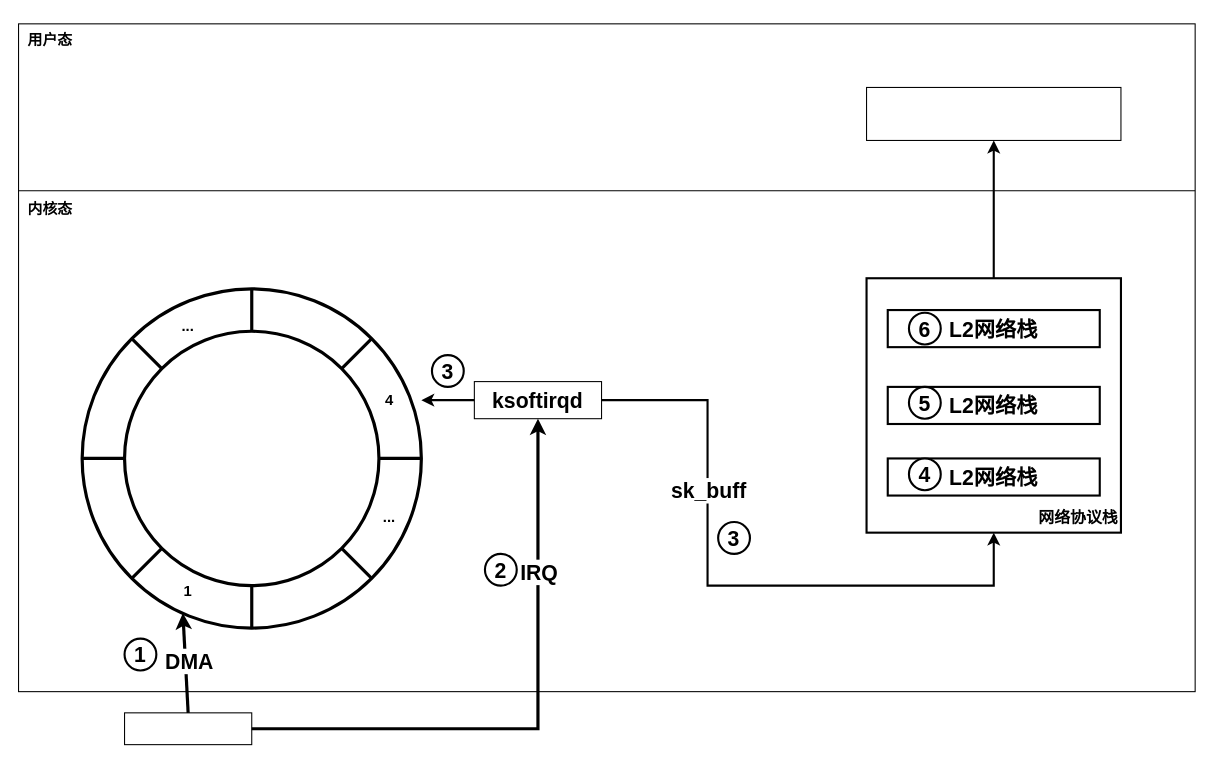
The diagram is 1215 pixels wide and 763 high, and some of its shapes have lost their labels. Here are the shapes that lost their labels. From the top down, the centre of each, then its label:
point 993,113: 应用程序
point 251,458: ring buffer
point 187,728: NIC
